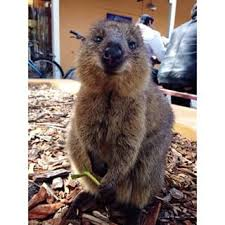quokka: (51, 16, 185, 216)
